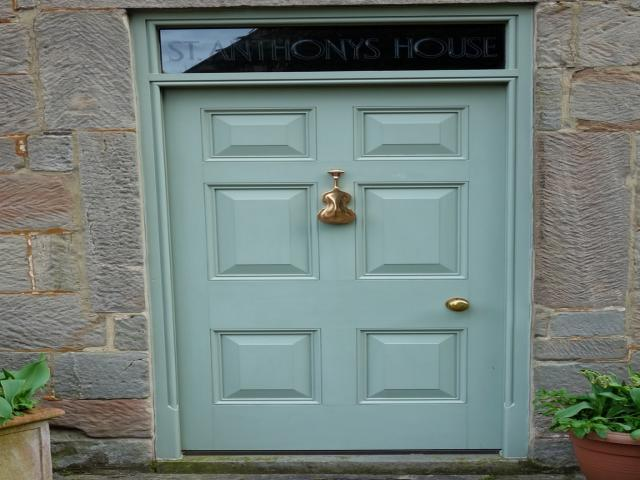Door-handle: (317, 169, 357, 225), (445, 298, 469, 312), (444, 298, 469, 310)
